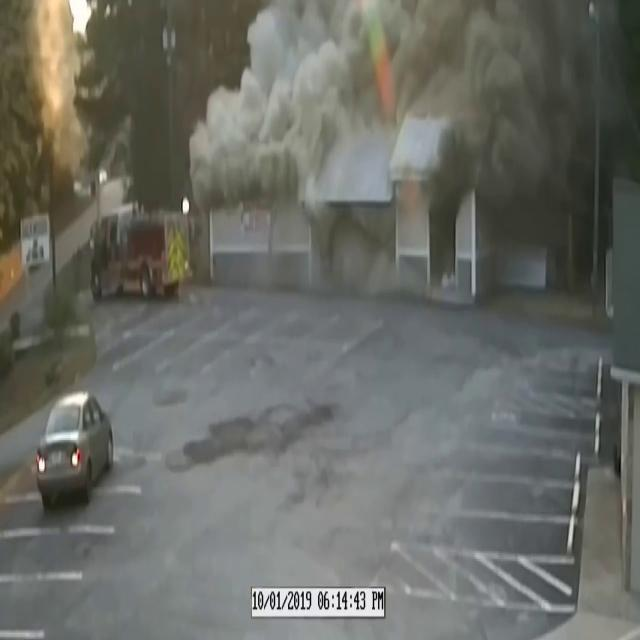Smoke: (203, 0, 628, 210)
